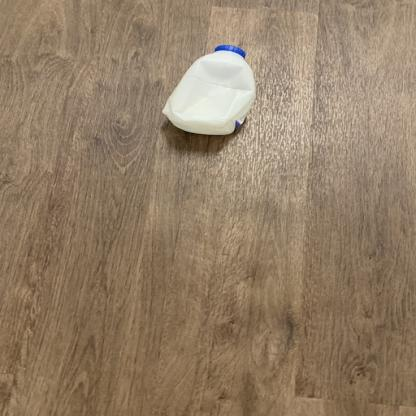trash: (167, 45, 264, 141)
